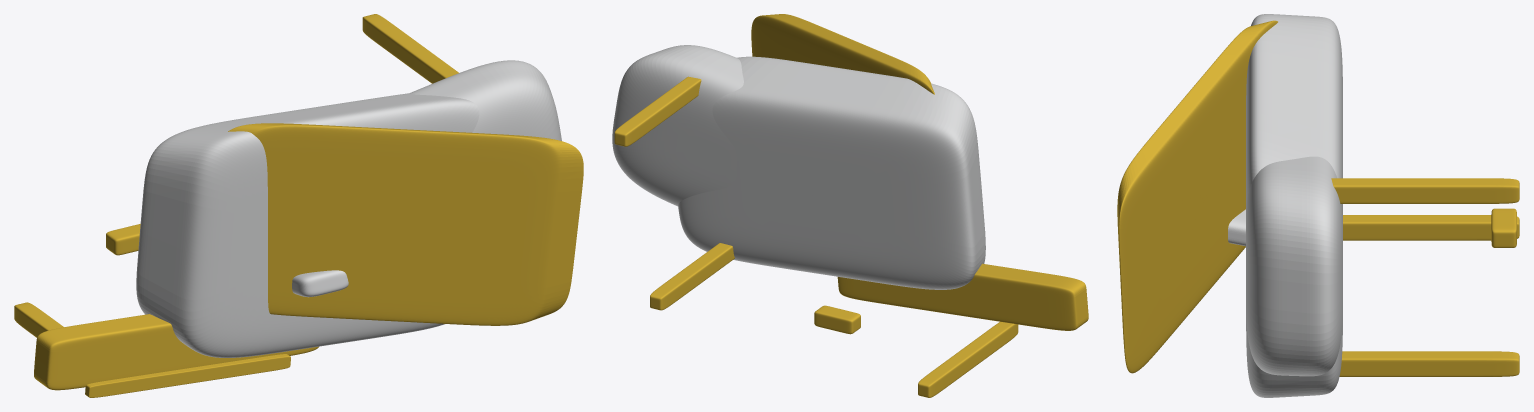
Rendered from grand_piano_sq.glb.
3 views of the same model, side by side, from view 1: azimuth 30°, elevation 25°; view 2: azimuth 150°, elevation 25°; view 3: azimuth 270°, elevation 25° (orthographic). The views are drawn at different scales.
Parts seen in each view (by area): view 1: superquadric_4, superquadric_0, superquadric_2, superquadric_1, superquadric_3, superquadric_7, superquadric_9, superquadric_5, superquadric_8; view 2: superquadric_0, superquadric_1, superquadric_2, superquadric_4, superquadric_5, superquadric_7, superquadric_6, superquadric_8; view 3: superquadric_4, superquadric_1, superquadric_0, superquadric_7, superquadric_6, superquadric_5, superquadric_8, superquadric_9.
Boxes of the visible parts, <box> form: superquadric_4: <box>228,123,583,325</box>; superquadric_0: <box>136,93,479,357</box>; superquadric_2: <box>34,314,318,390</box>; superquadric_1: <box>409,60,561,140</box>; superquadric_3: <box>85,354,290,397</box>; superquadric_7: <box>362,14,458,83</box>; superquadric_9: <box>292,270,348,297</box>; superquadric_5: <box>14,302,63,337</box>; superquadric_8: <box>106,224,140,255</box>; superquadric_0: <box>678,56,985,289</box>; superquadric_1: <box>612,45,743,206</box>; superquadric_2: <box>837,263,1088,330</box>; superquadric_4: <box>751,14,934,94</box>; superquadric_5: <box>918,321,1018,397</box>; superquadric_7: <box>614,76,701,146</box>; superquadric_6: <box>650,243,734,310</box>; superquadric_8: <box>814,305,860,334</box>; superquadric_4: <box>1117,20,1277,373</box>; superquadric_1: <box>1246,156,1342,376</box>; superquadric_0: <box>1246,14,1342,397</box>; superquadric_7: <box>1331,178,1519,203</box>; superquadric_6: <box>1339,351,1519,376</box>; superquadric_5: <box>1343,215,1519,240</box>; superquadric_8: <box>1491,208,1516,247</box>; superquadric_9: <box>1228,209,1245,246</box>.
Bounding box in the file's own units: 1 × 0.4659 × 0.6032.
